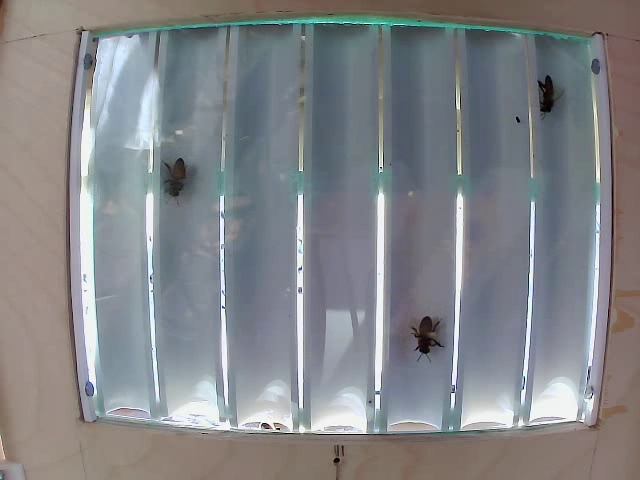bee: (410, 307, 451, 350), (157, 150, 195, 193), (546, 64, 559, 107)
